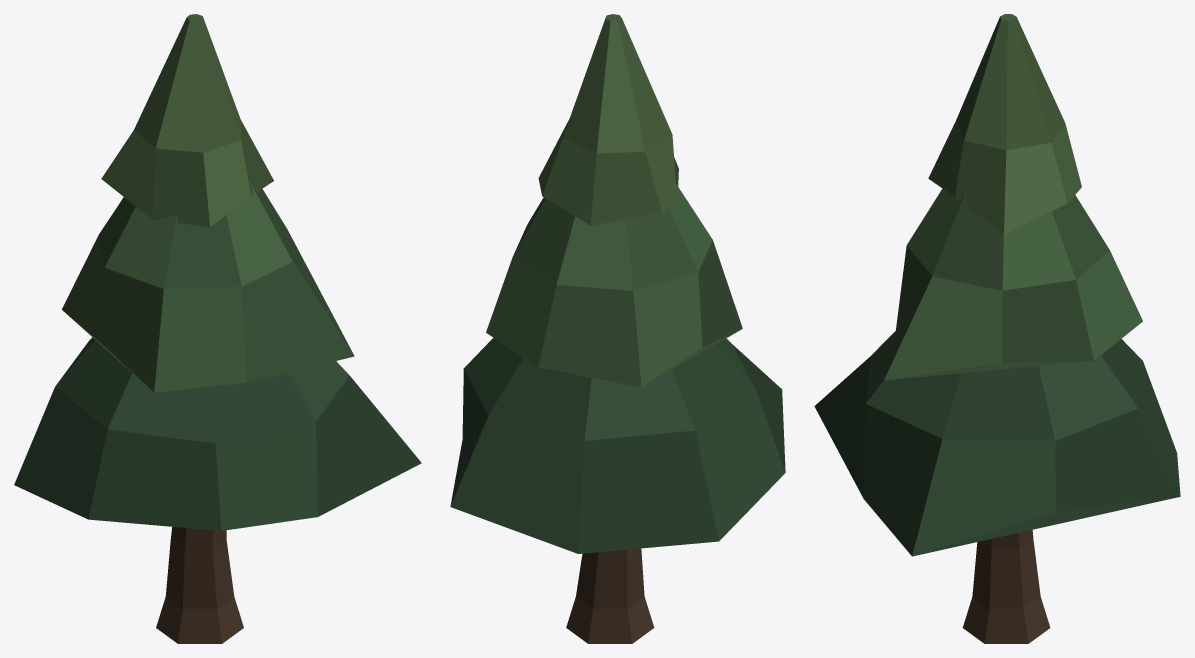
File: arvore_5.glb
3 renders of one model, left to right at view 1: azimuth 30°, elevation 25°; view 2: azimuth 150°, elevation 25°; view 3: azimuth 270°, elevation 25°, orthographic.
Parts seen in each view (by area): view 1: arvore_5.001; view 2: arvore_5.001; view 3: arvore_5.001.
Part boxes in pixels (bbox=[...]): arvore_5.001: bbox=[14, 14, 421, 643]; arvore_5.001: bbox=[450, 14, 785, 643]; arvore_5.001: bbox=[814, 14, 1180, 643].
Bounding box in the file's own units: 1.82 × 3.3 × 1.8.
